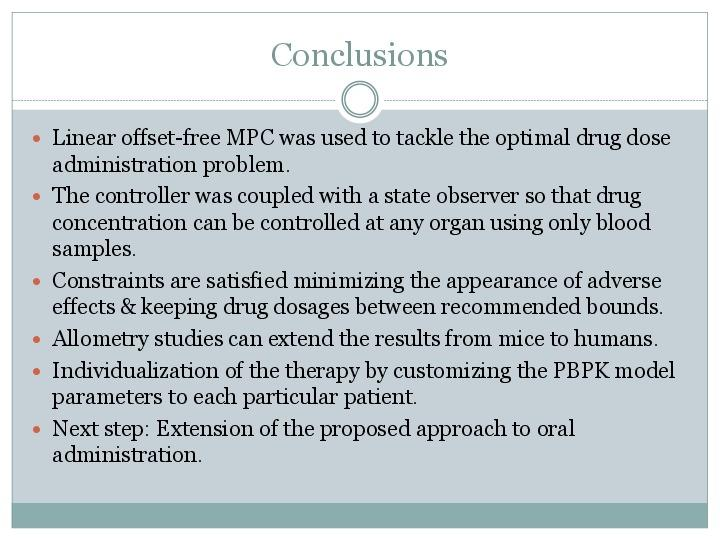paragraph: (22, 121, 699, 485)
title: (260, 26, 459, 75)
